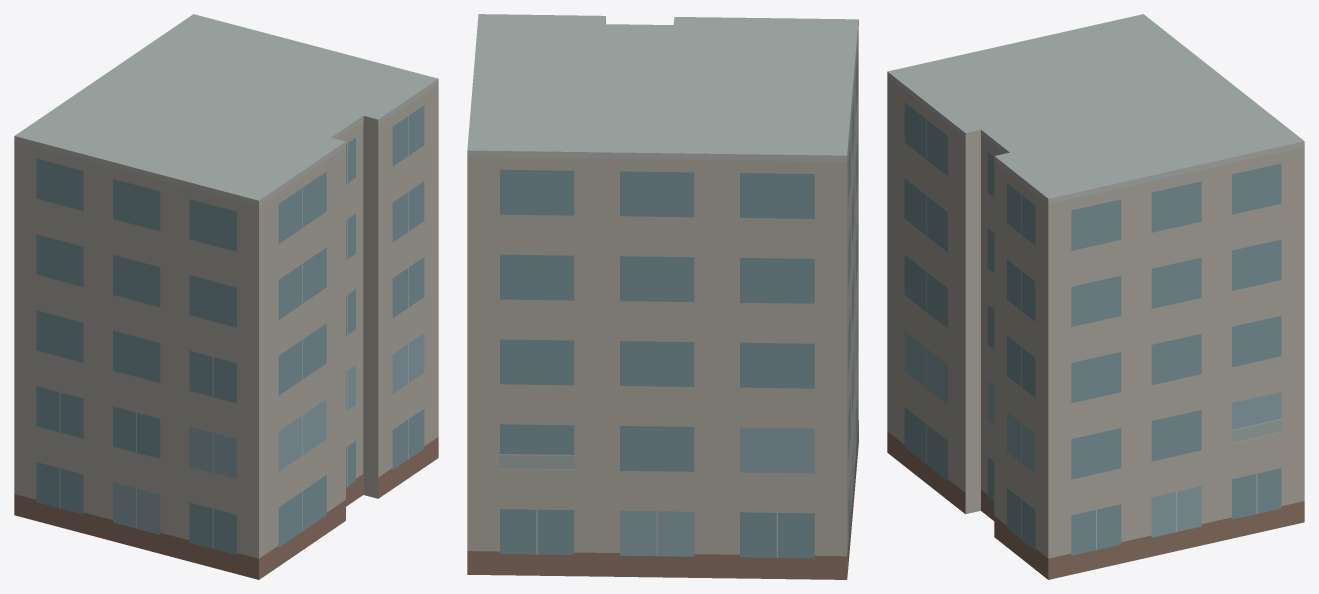
Rendered from survey-upis-32946452.glb.
The picture shows the model from 3 angles, left to right: view 1: azimuth 30°, elevation 25°; view 2: azimuth 150°, elevation 25°; view 3: azimuth 270°, elevation 25°; orthographic projection. The views are drawn at different scales.
Visible parts, largest first — view 1: survey-upis-32946452.tmp; view 2: survey-upis-32946452.tmp; view 3: survey-upis-32946452.tmp.
Part boxes in pixels (<box>): survey-upis-32946452.tmp: <box>14,14,438,579</box>; survey-upis-32946452.tmp: <box>467,14,858,579</box>; survey-upis-32946452.tmp: <box>887,14,1304,579</box>.
Size of the model in its own units: 17.48 by 16.8 by 16.68.
